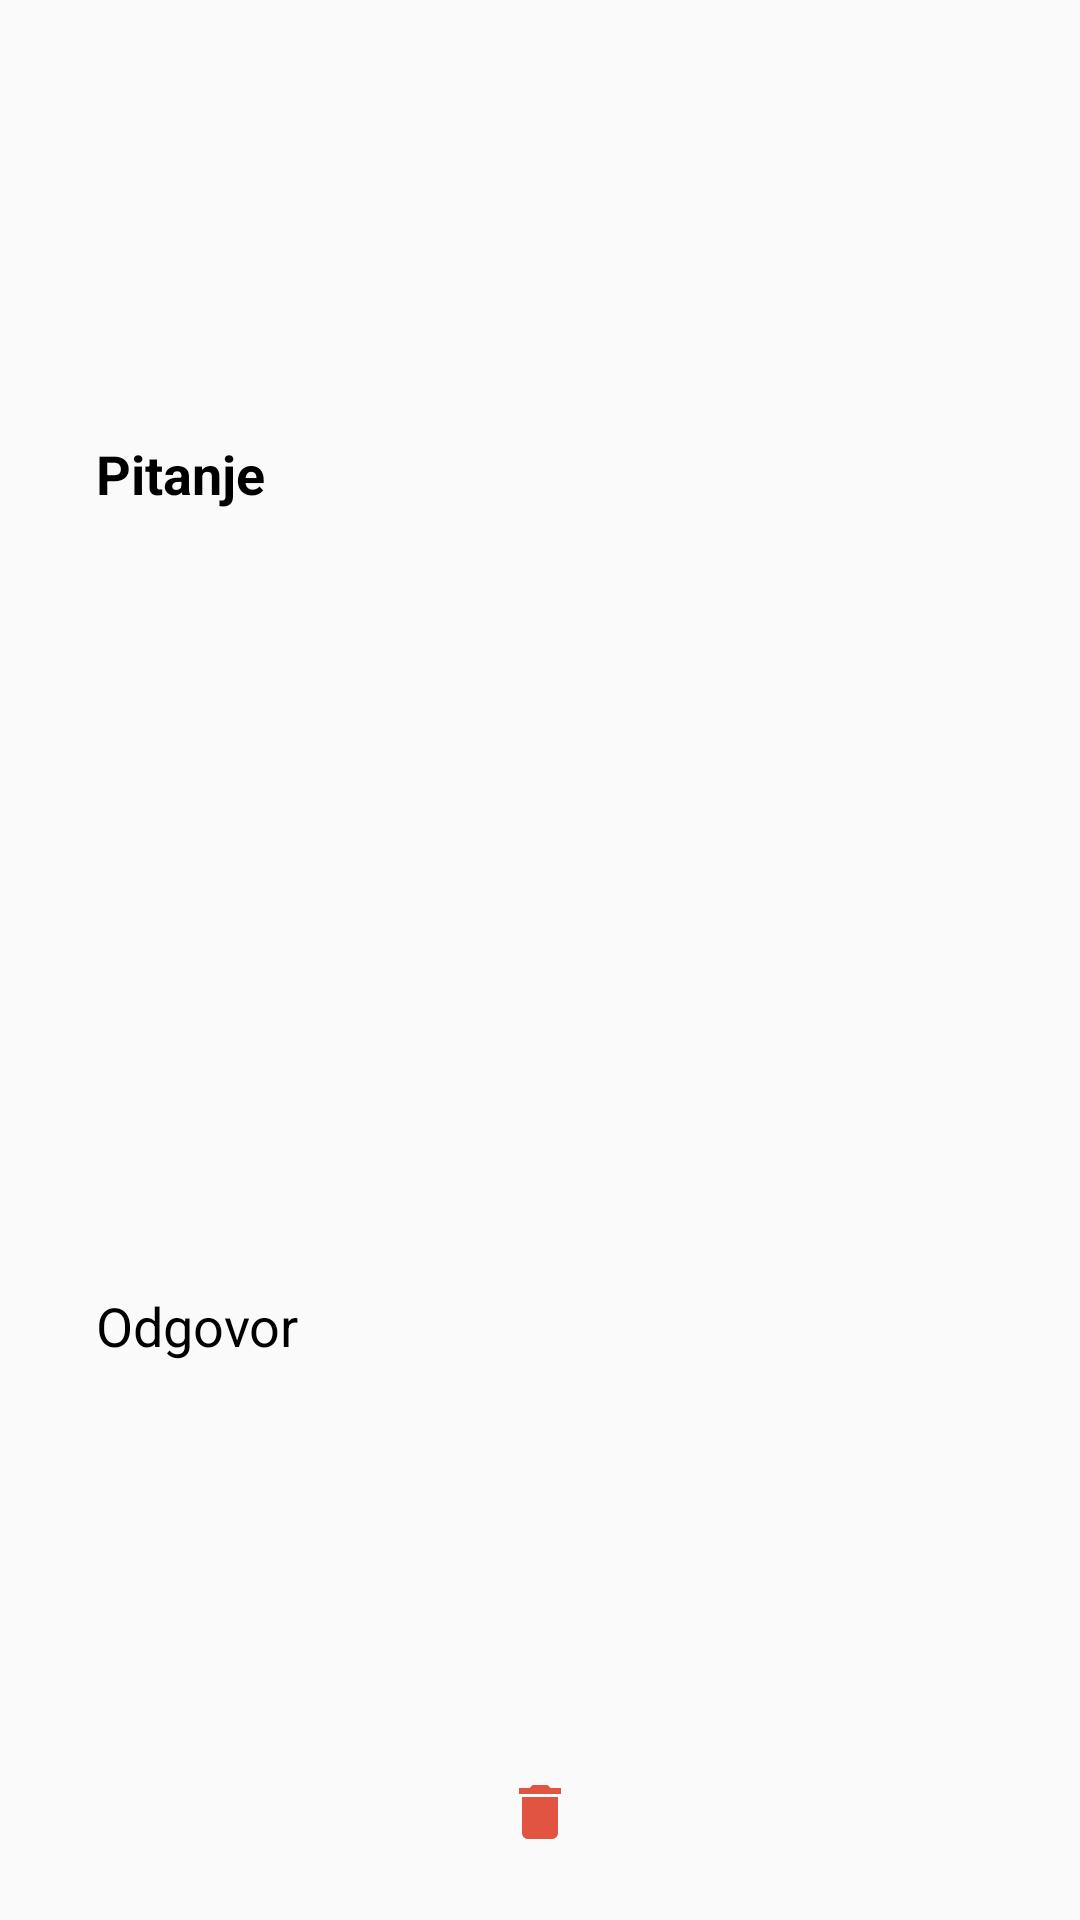

Screen size 1080x1920. Icon name, then its center in pixels as (x=x, y=y):
delete: (x=540, y=1812)
